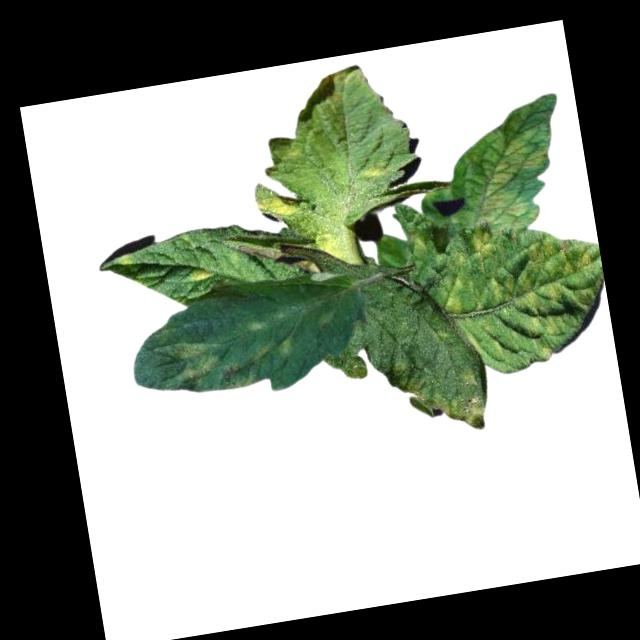Leaf_Mold: (436, 232, 615, 381), (452, 92, 577, 236), (384, 355, 491, 443), (152, 331, 258, 402), (318, 64, 373, 105), (254, 183, 306, 221), (254, 333, 299, 364), (467, 224, 498, 259), (185, 261, 218, 283), (357, 161, 385, 179)
